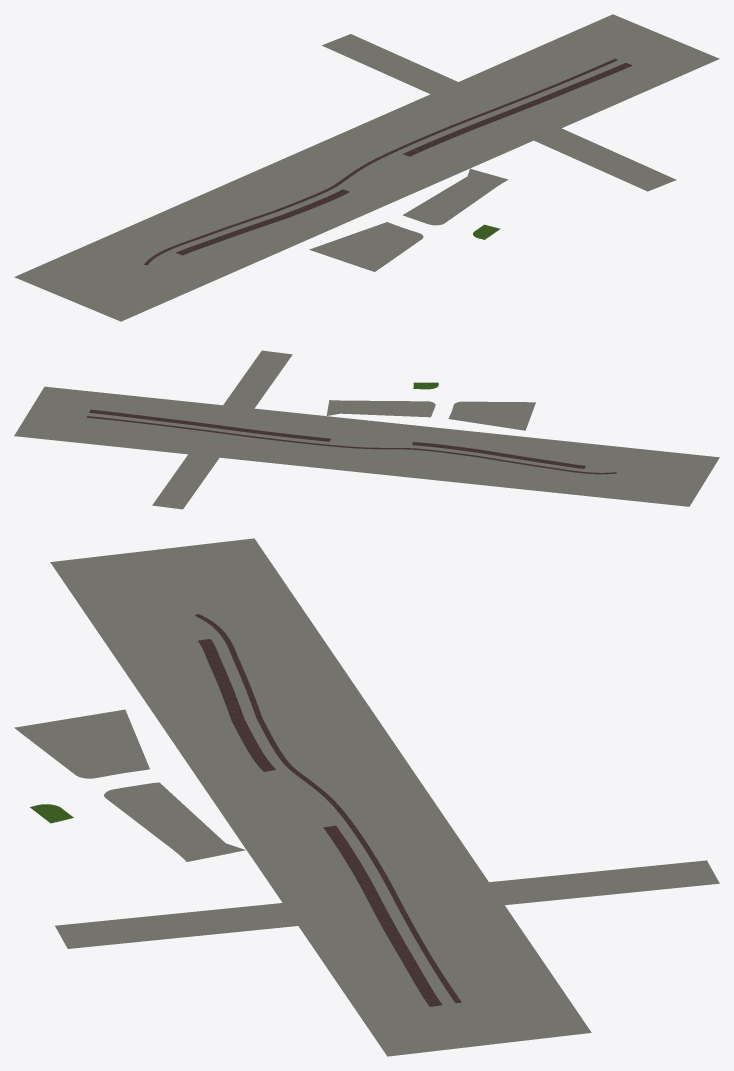
Rendered from nanjing_4ripe.FBX.
The picture shows the model from 3 angles, top to bottom: view 1: azimuth 30°, elevation 25°; view 2: azimuth 150°, elevation 25°; view 3: azimuth 270°, elevation 25°; orthographic projection. The views are drawn at different scales.
Parts seen in each view (by area): view 1: najing_brick04_02, najing_brick06_2_00; view 2: najing_brick04_02, najing_brick06_2_00; view 3: najing_brick04_02, najing_brick06_2_00.
Part boxes in pixels (x1,y1,x2,y2): najing_brick04_02: (14, 14, 719, 321); najing_brick06_2_00: (144, 58, 632, 265); najing_brick04_02: (14, 350, 719, 509); najing_brick06_2_00: (86, 409, 616, 474); najing_brick04_02: (14, 538, 719, 1056); najing_brick06_2_00: (194, 614, 461, 1006).
Size of the model in its own units: 1019 by 0.32 by 587.
